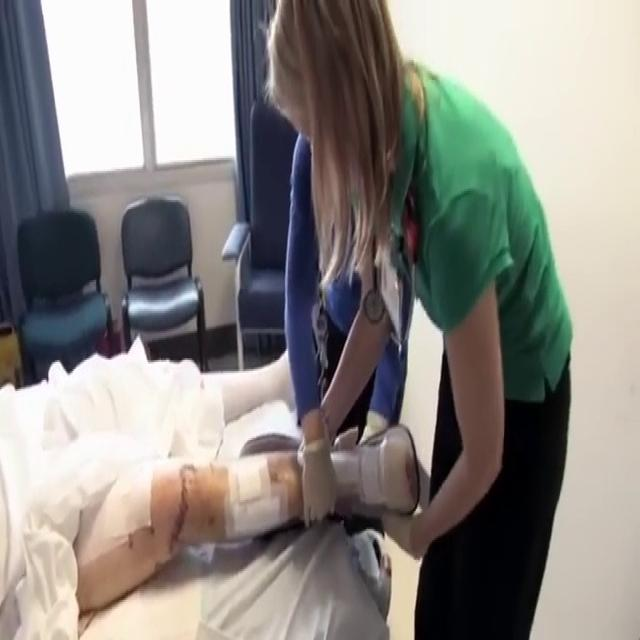nurse: (261, 0, 573, 638)
patient: (0, 335, 421, 638)
